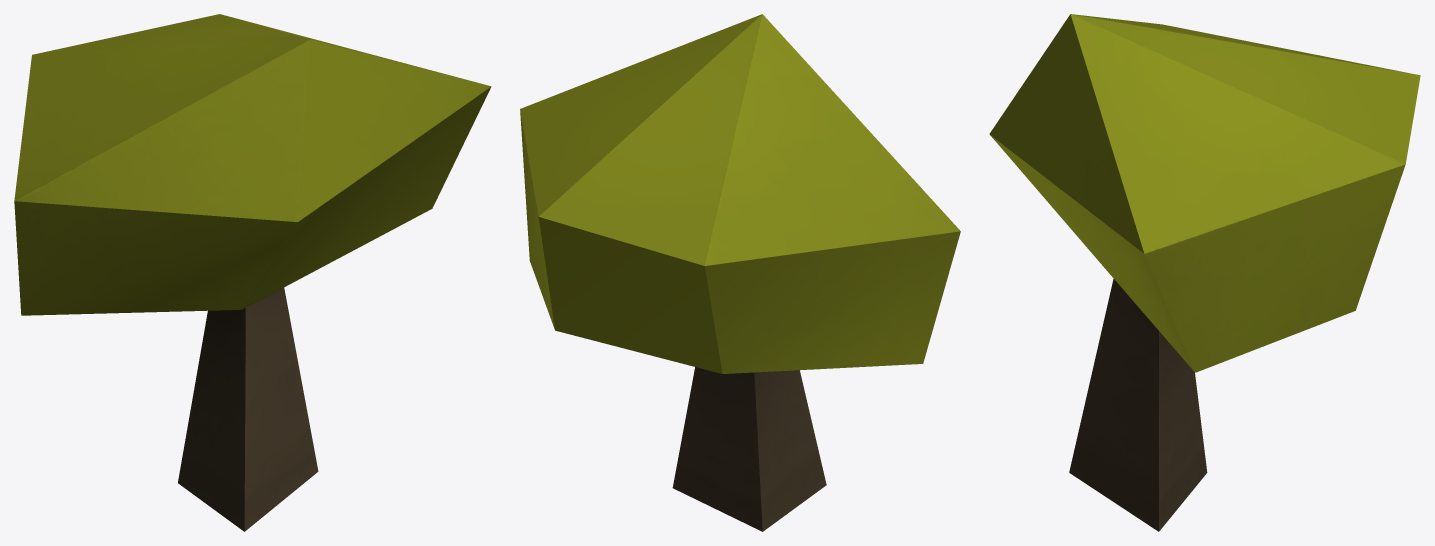
Rendered from Leave_tree_C3_02.FBX.
3 views of the same model, side by side, from view 1: azimuth 30°, elevation 25°; view 2: azimuth 150°, elevation 25°; view 3: azimuth 270°, elevation 25° (orthographic). The views are drawn at different scales.
Visible parts, largest first — view 1: Leave_tree_C3_02; view 2: Leave_tree_C3_02; view 3: Leave_tree_C3_02.
Part boxes in pixels (x1,y1,x2,y2): Leave_tree_C3_02: [14, 14, 491, 531]; Leave_tree_C3_02: [520, 14, 960, 531]; Leave_tree_C3_02: [989, 14, 1420, 531].
Size of the model in its own units: 41.92 by 32.3 by 40.67.
